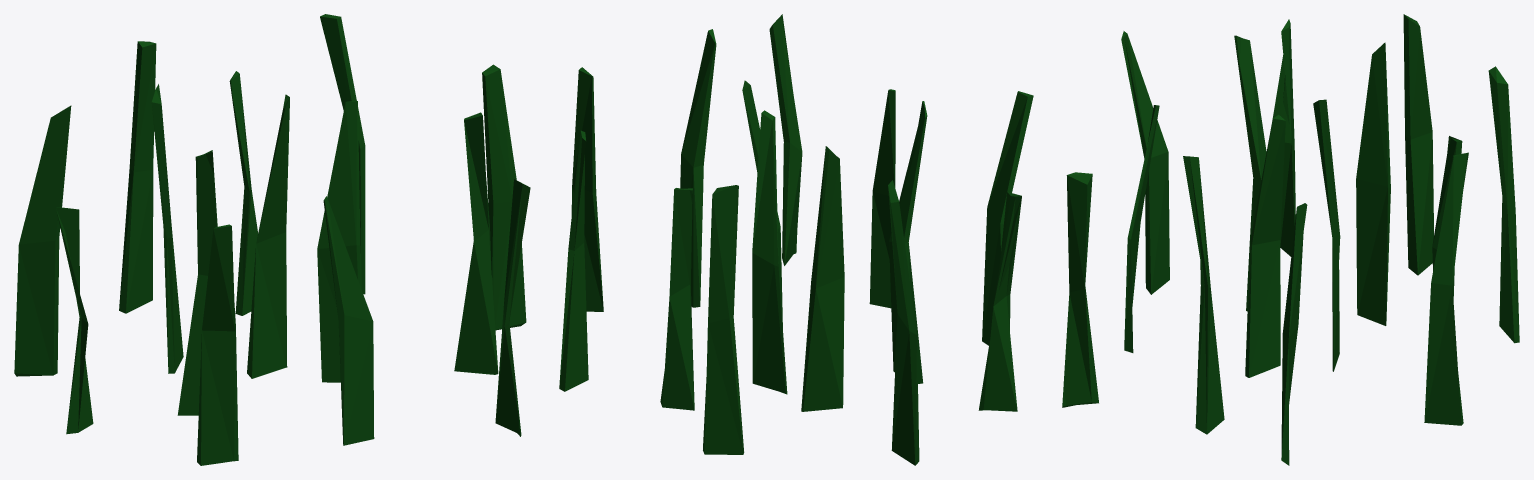
Rendered from grass_4.glb.
3 renders of one model, left to right at view 1: azimuth 30°, elevation 25°; view 2: azimuth 150°, elevation 25°; view 3: azimuth 270°, elevation 25°, orthographic. The views are drawn at different scales.
Visible parts, largest first — view 1: grass_4; view 2: grass_4; view 3: grass_4.
Part boxes in pixels (x1,y1,x2,y2): grass_4: (14,14,530,465); grass_4: (559,14,1033,465); grass_4: (1062,14,1519,465).
Size of the model in its own units: 0.6868 by 0.4108 by 0.5985.
